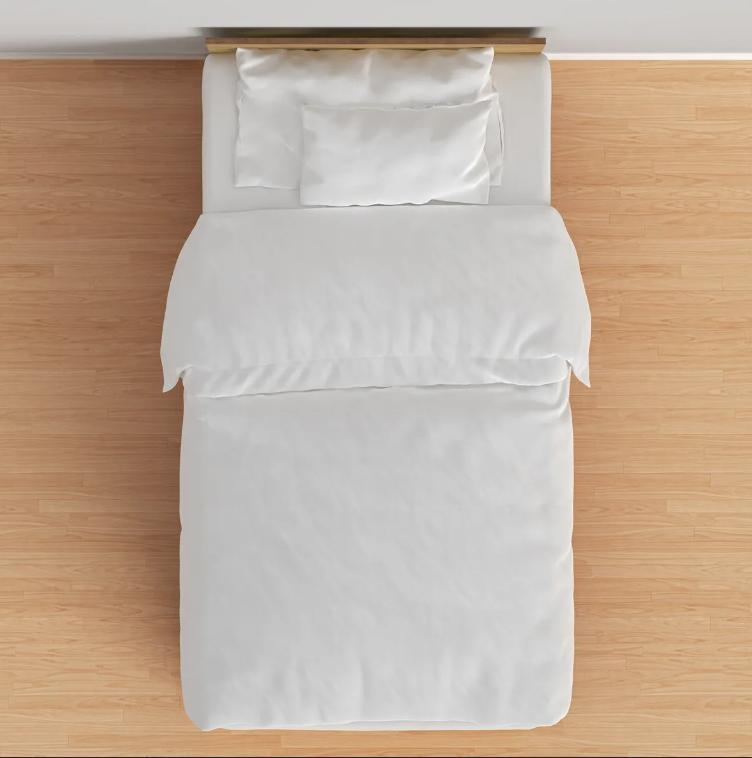Bed-Mattress: (178, 19, 582, 737)
